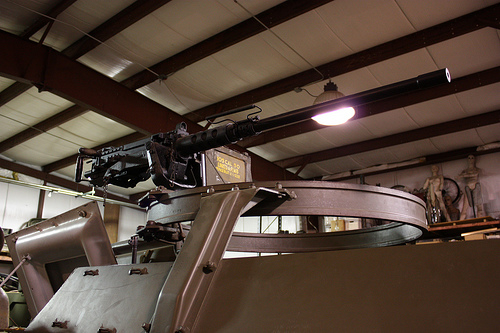rifle: (69, 66, 460, 186)
